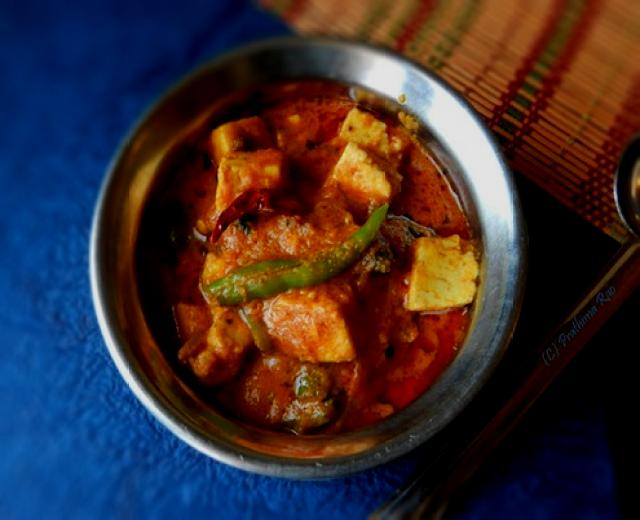kadai paneer: (137, 84, 478, 433)
